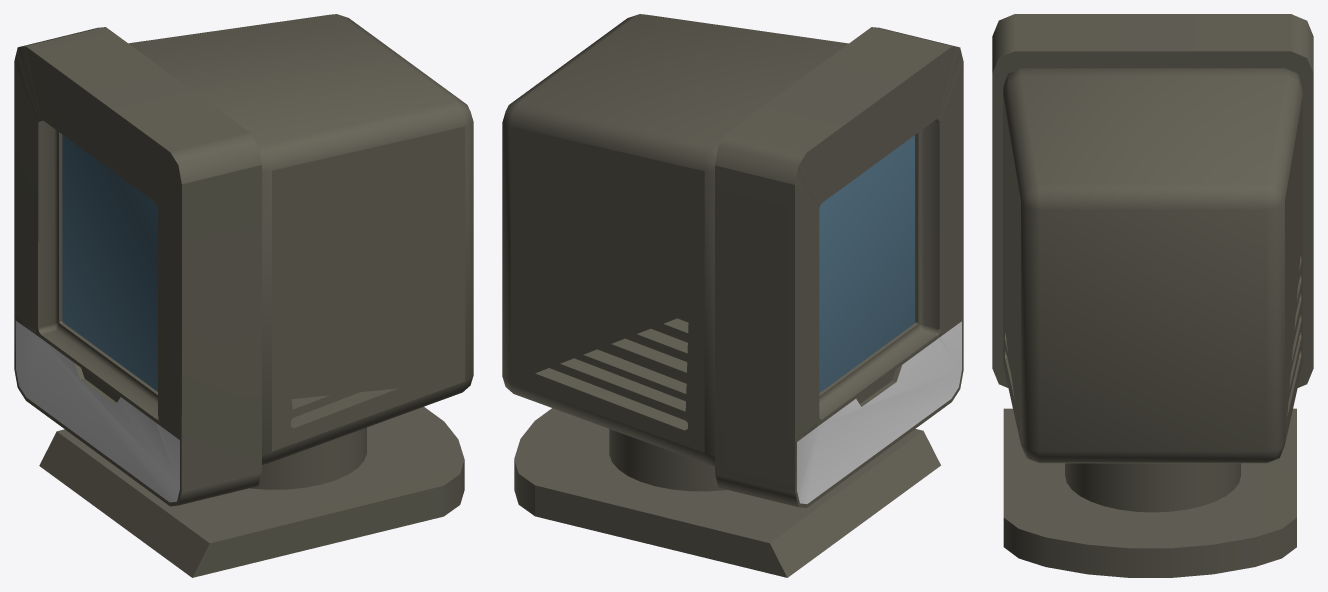
File: monitor_tier9.fbx
The picture shows the model from 3 angles, left to right: view 1: azimuth 30°, elevation 25°; view 2: azimuth 150°, elevation 25°; view 3: azimuth 270°, elevation 25°; orthographic projection. The views are drawn at different scales.
Visible parts, largest first — view 1: Cube.003; view 2: Cube.003; view 3: Cube.003.
Boxes of the visible parts, x1=… form: Cube.003: x1=14, y1=14, x2=473, y2=577; Cube.003: x1=502, y1=14, x2=963, y2=577; Cube.003: x1=992, y1=14, x2=1313, y2=577.
Bounding box in the file's own units: 0.5383 × 0.6555 × 0.4684.
